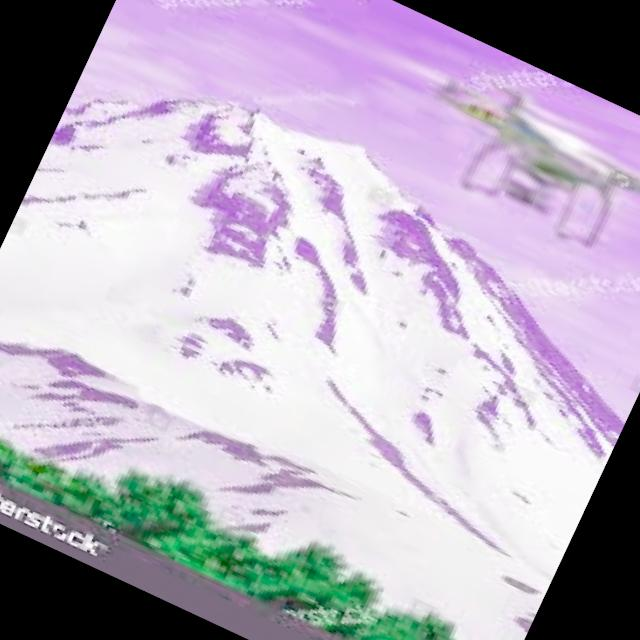drone: (358, 37, 640, 309)
